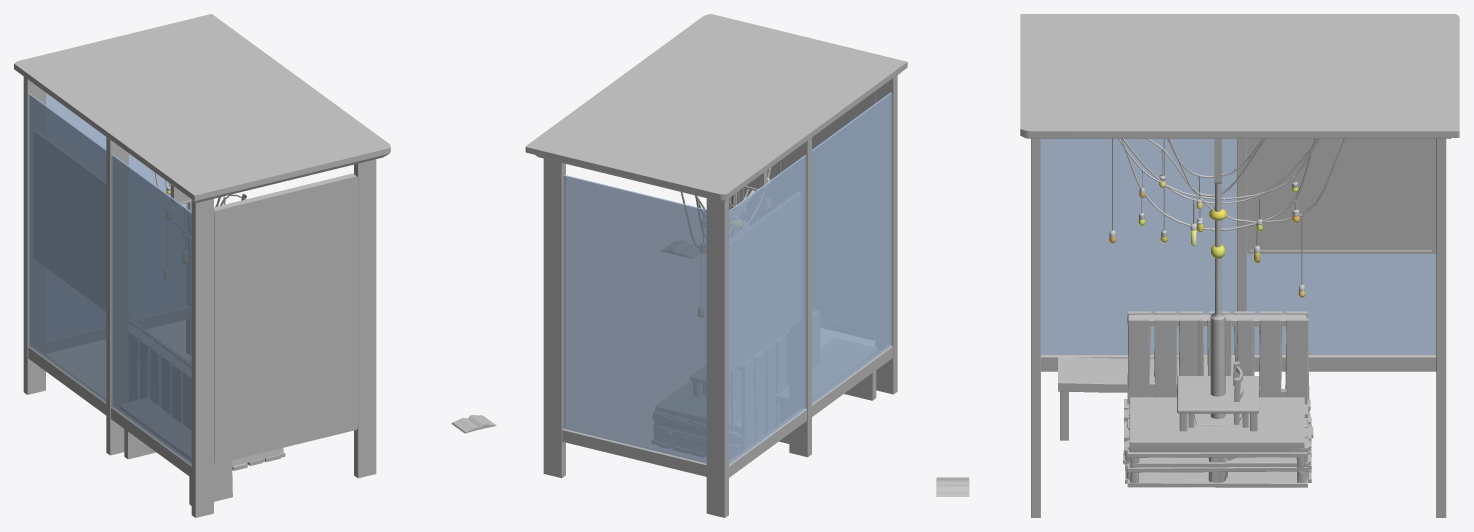
Rendered from Street1_Object_set.fbx.
3 views of the same model, side by side, from view 1: azimuth 30°, elevation 25°; view 2: azimuth 150°, elevation 25°; view 3: azimuth 270°, elevation 25° (orthographic). The views are drawn at different scales.
Visible parts, largest first — view 1: BusStop1, BusStopGlass; view 2: BusStopGlass, BusStop1, StopSign; view 3: BusStop1, BusStopGlass, PalletBench, PalletBench_Pillow, Tabel1, StopSign, Pallet_Table, Pallet_Table_Cloth, Lights_Long, Hair, Lights_Mid_2, Lights_Mid (+4 smaller).
Boxes of the visible parts, x1,y1,x2,y2 form: BusStop1: (14, 14, 390, 517); BusStopGlass: (28, 93, 191, 465); BusStopGlass: (563, 92, 892, 465); BusStop1: (525, 14, 907, 517); StopSign: (708, 92, 766, 208); BusStop1: (1020, 14, 1459, 517); BusStopGlass: (1041, 138, 1436, 354); PalletBench: (1128, 311, 1309, 487); PalletBench_Pillow: (1127, 311, 1306, 487); Tabel1: (1177, 376, 1259, 431); StopSign: (1210, 51, 1225, 418); Pallet_Table: (1128, 404, 1308, 481); Pallet_Table_Cloth: (1123, 399, 1313, 483); Lights_Long: (1109, 138, 1345, 291); Hair: (1194, 361, 1243, 425); Lights_Mid_2: (1121, 138, 1316, 230); Lights_Mid: (1122, 138, 1321, 230).
Size of the model in its own units: 3.42 by 4 by 4.81.
